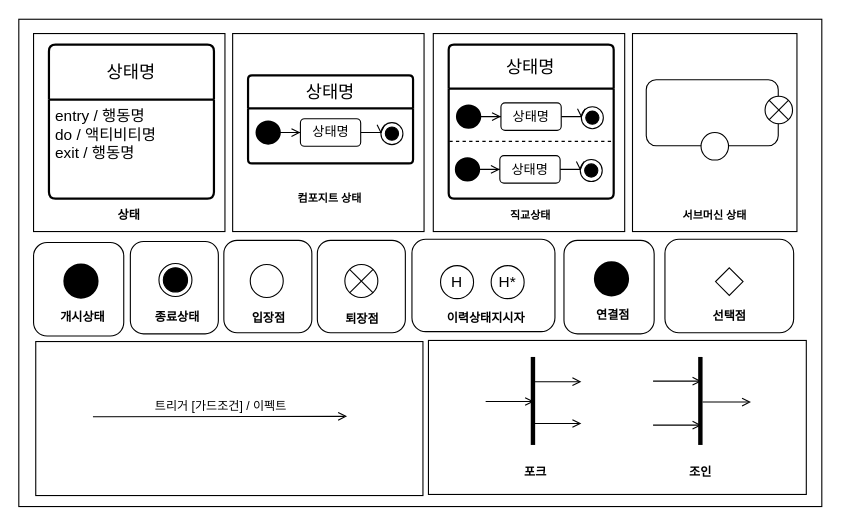
Some shapes in this 842 by 526 pixel diagram are drawn without their labels. Each missing label, with the centre of its shape:
상태명 : 스테이트 머신명: point 711,112
표이: point 229,418
